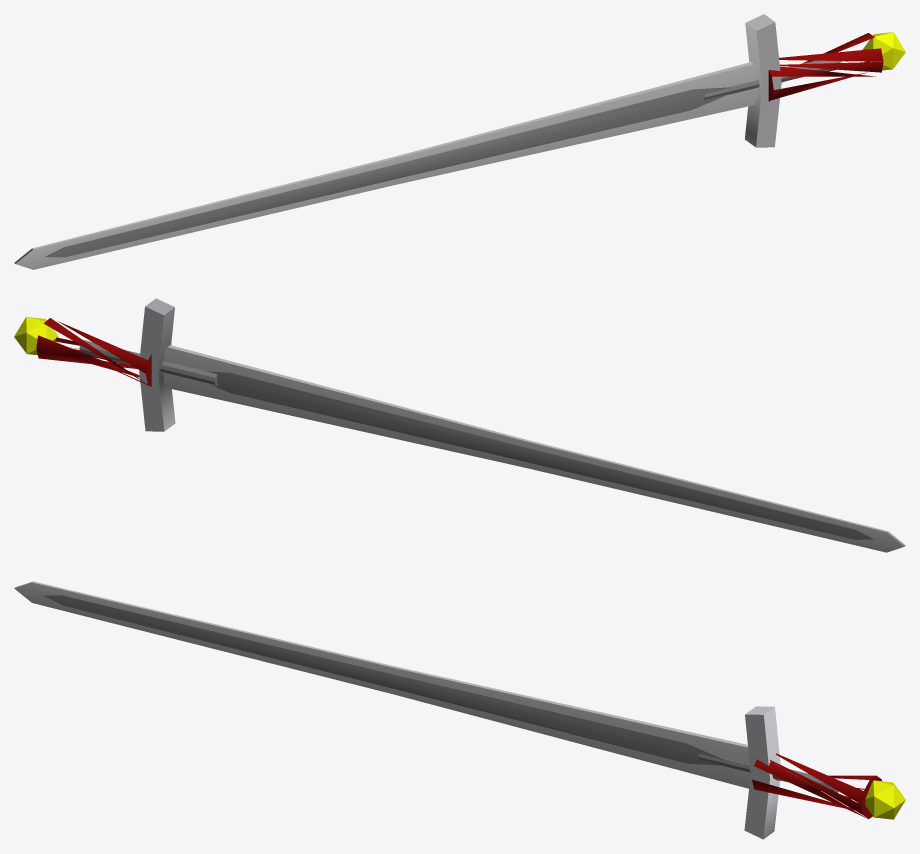
Rendered from classic-sword-by-colby-rivera-3OAkprHKNkp.glb.
3 renders of one model, top to bottom at view 1: azimuth 30°, elevation 25°; view 2: azimuth 150°, elevation 25°; view 3: azimuth 330°, elevation 25°, orthographic.
Parts seen in each view (by area): view 1: 004_Outer_Edge, 005_Inner_Edge, 000_Default_StructuredGeometry_Name, 002_Default_StructuredGeometry_Name, 001_Default_StructuredGeometry_Name, 003_Tang; view 2: 004_Outer_Edge, 005_Inner_Edge, 000_Default_StructuredGeometry_Name, 002_Default_StructuredGeometry_Name, 003_Tang, 001_Default_StructuredGeometry_Name; view 3: 004_Outer_Edge, 005_Inner_Edge, 000_Default_StructuredGeometry_Name, 002_Default_StructuredGeometry_Name, 001_Default_StructuredGeometry_Name, 003_Tang.
Part boxes in pixels (<box>): 004_Outer_Edge: <box>14,62,758,269</box>; 005_Inner_Edge: <box>45,87,731,257</box>; 000_Default_StructuredGeometry_Name: <box>745,14,781,147</box>; 002_Default_StructuredGeometry_Name: <box>768,33,883,101</box>; 001_Default_StructuredGeometry_Name: <box>862,32,905,70</box>; 003_Tang: <box>704,60,840,99</box>; 004_Outer_Edge: <box>163,345,905,552</box>; 005_Inner_Edge: <box>206,371,874,539</box>; 000_Default_StructuredGeometry_Name: <box>139,298,175,431</box>; 002_Default_StructuredGeometry_Name: <box>36,318,151,386</box>; 003_Tang: <box>79,340,217,385</box>; 001_Default_StructuredGeometry_Name: <box>14,317,58,355</box>; 004_Outer_Edge: <box>14,581,750,788</box>; 005_Inner_Edge: <box>43,595,725,765</box>; 000_Default_StructuredGeometry_Name: <box>744,706,780,839</box>; 002_Default_StructuredGeometry_Name: <box>752,753,881,818</box>; 001_Default_StructuredGeometry_Name: <box>865,780,905,819</box>; 003_Tang: <box>698,753,838,792</box>.
Size of the model in its own units: 457 by 61.69 by 19.99.
